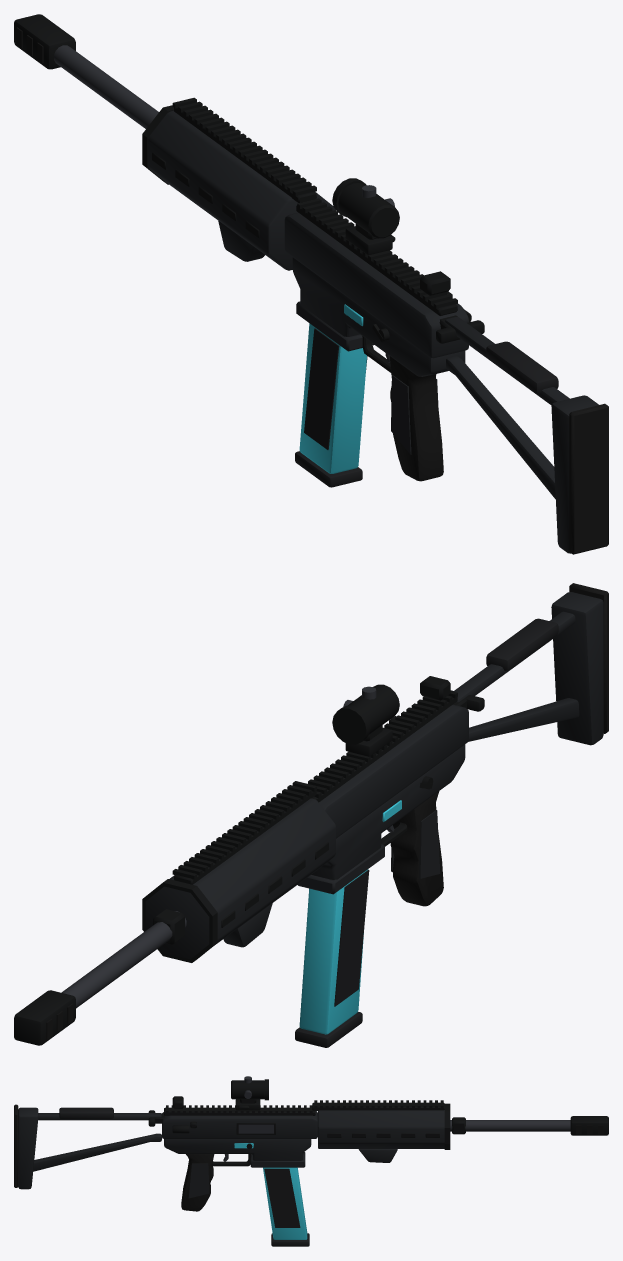
File: gun_41.glb
3 renders of one model, top to bottom at view 1: azimuth 30°, elevation 25°; view 2: azimuth 150°, elevation 25°; view 3: azimuth 270°, elevation 25°, orthographic. The views are drawn at different scales.
Visible parts, largest first — view 1: gun_41; view 2: gun_41; view 3: gun_41.
Boxes of the visible parts, <box> form: gun_41: <box>14,14,608,554</box>; gun_41: <box>14,583,608,1047</box>; gun_41: <box>14,1076,608,1246</box>.
Bounding box in the file's own units: 0.0786 × 0.3325 × 1.09.
